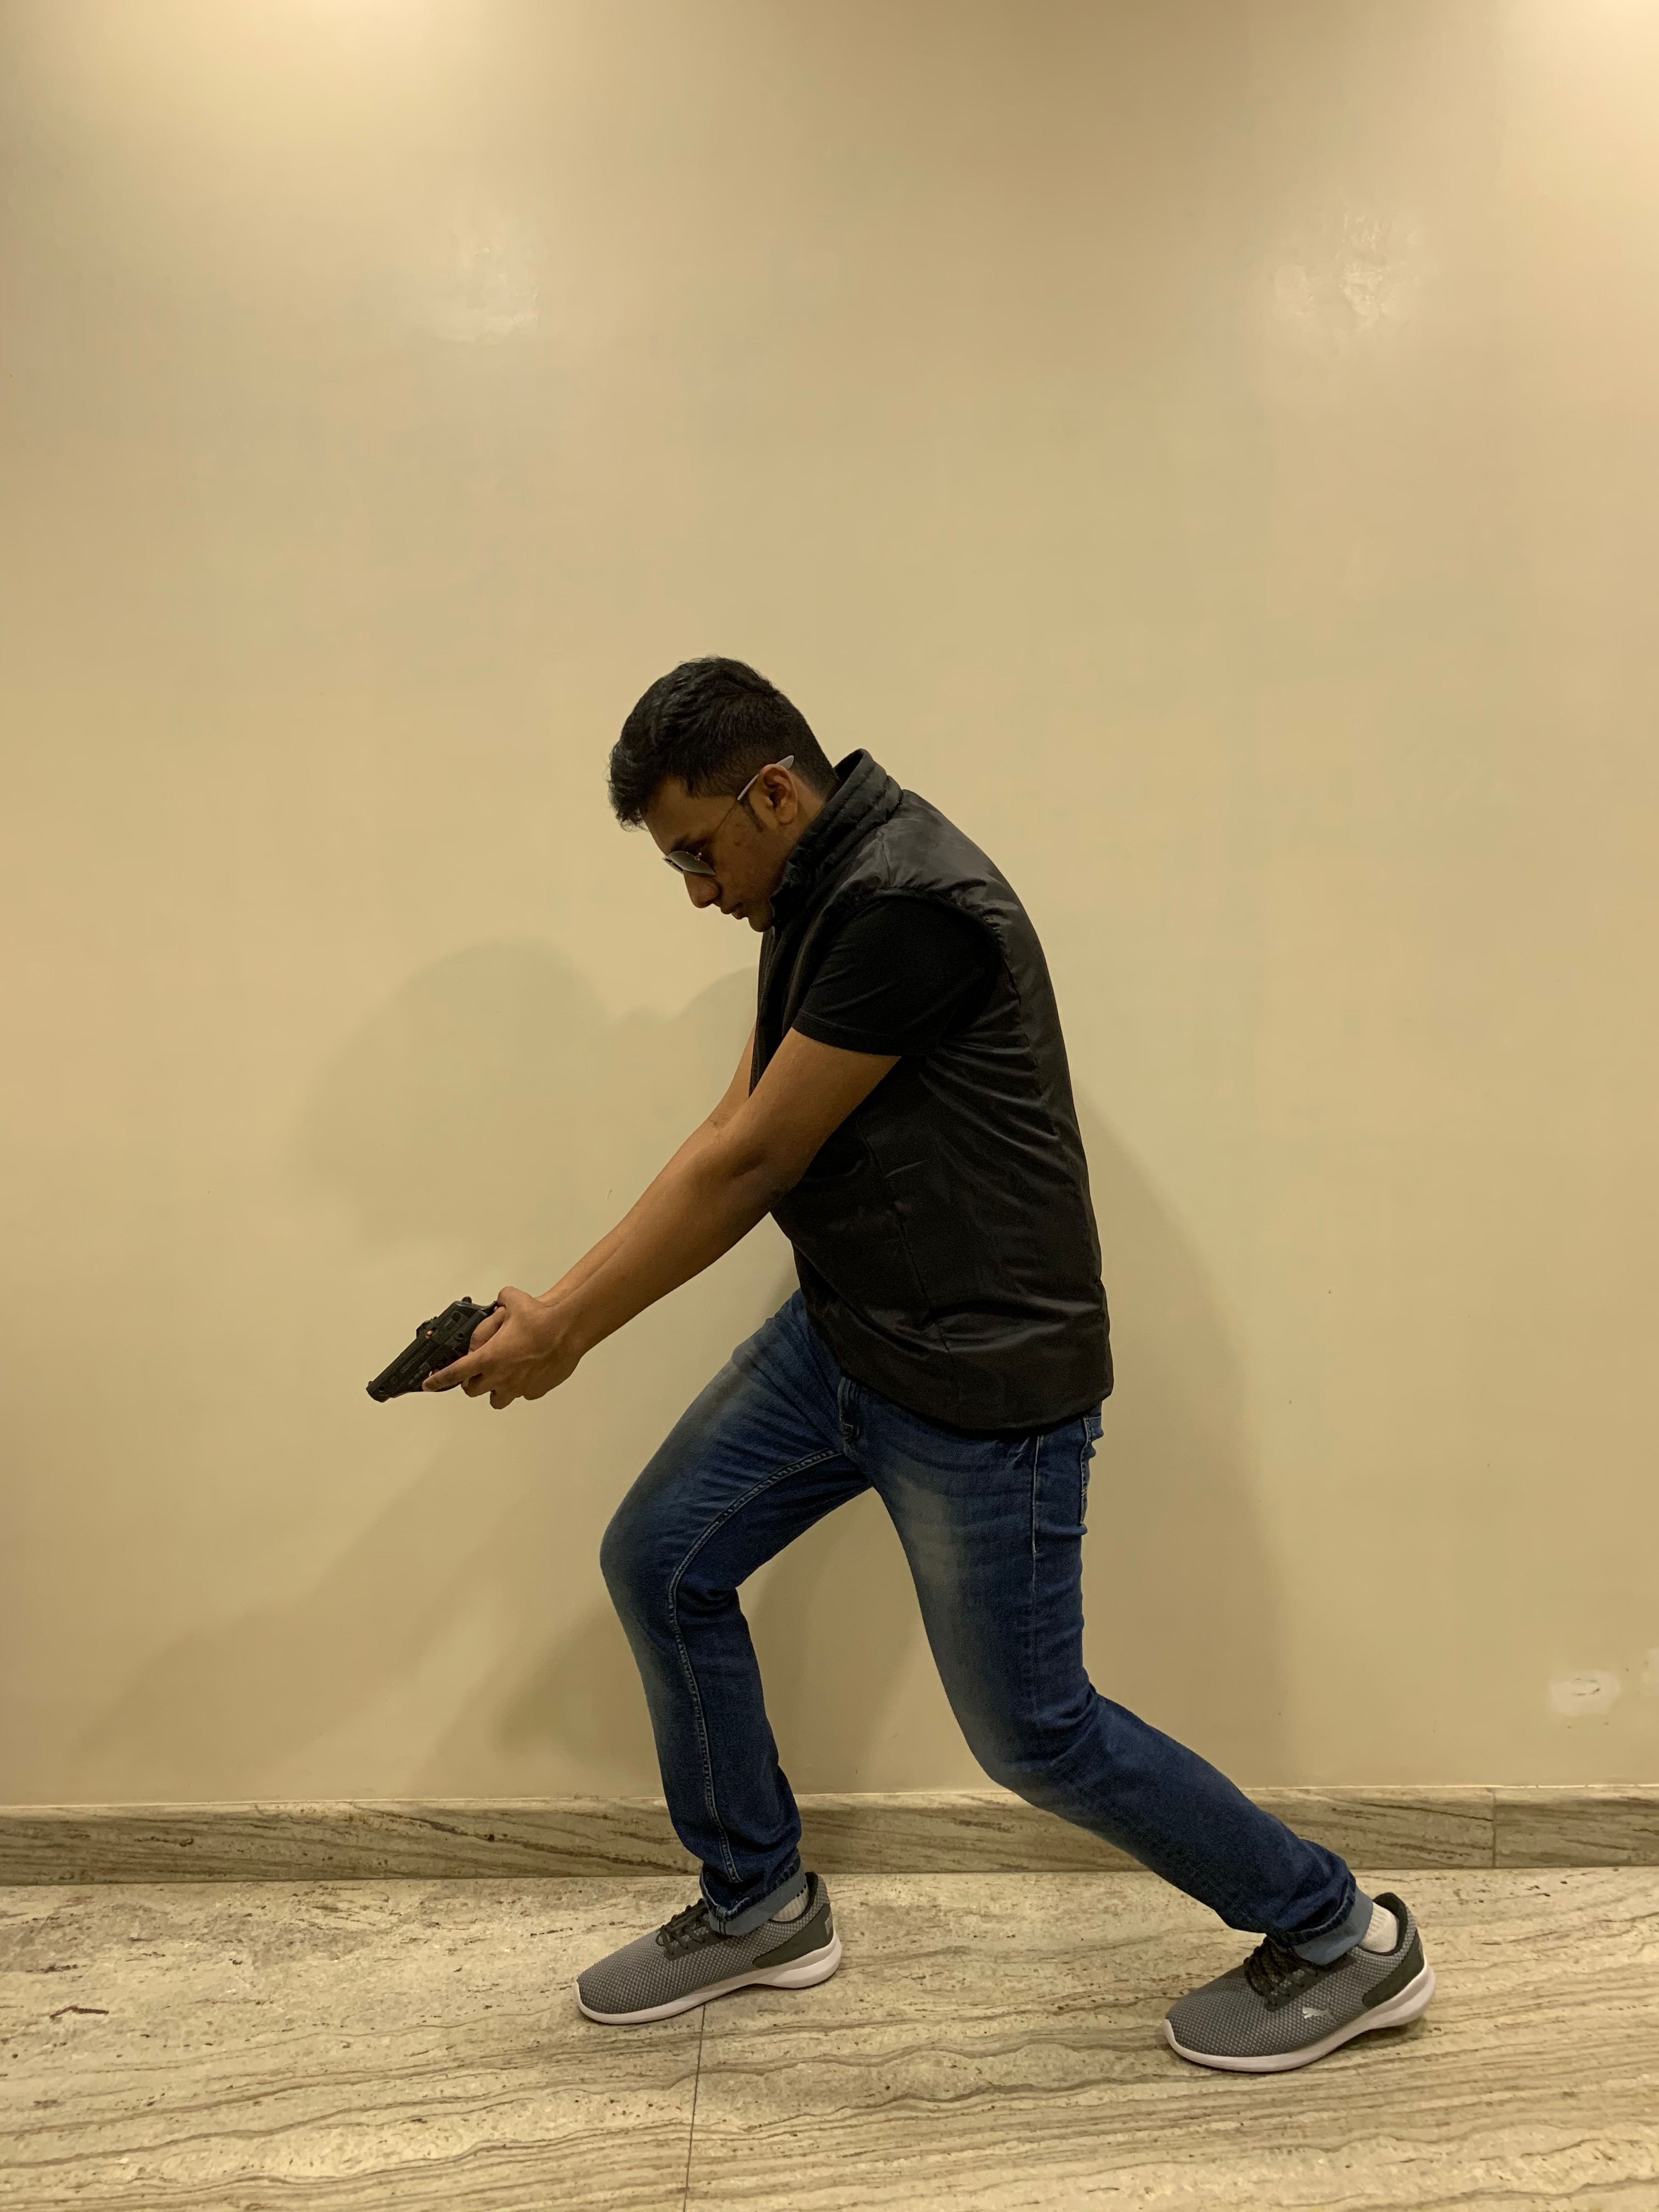gun: (364, 1291, 523, 1407)
